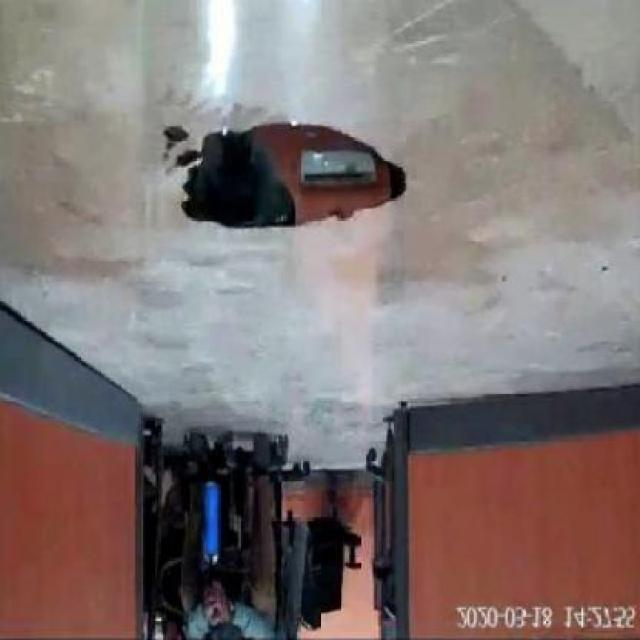spillage: (166, 117, 415, 232)
